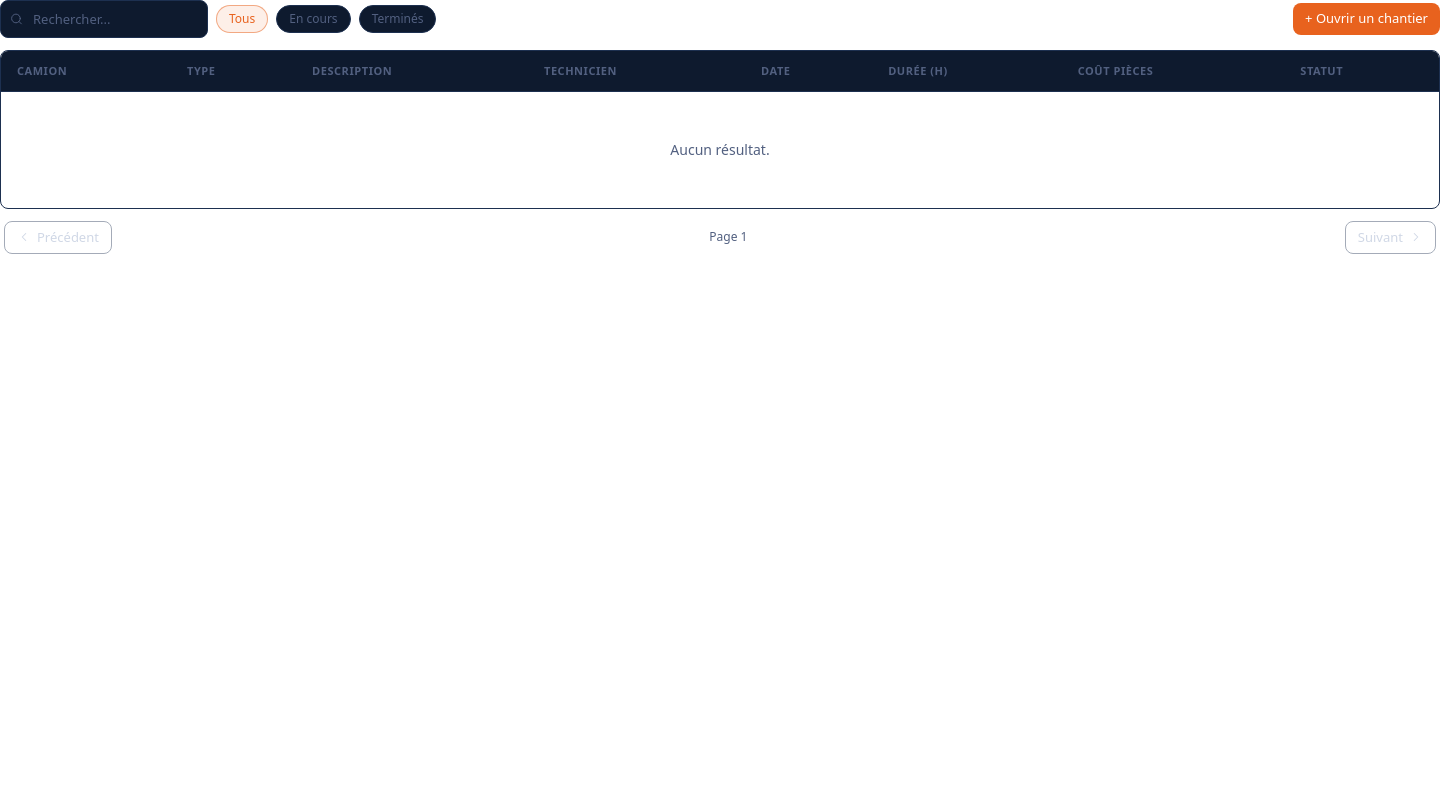
Test: MaintenanceList › new maintenance drawer › opens the drawer when the action button is clicked
Click the button "+ Ouvrir un chantier" at (1367,19), box [1293,3,1439,35]
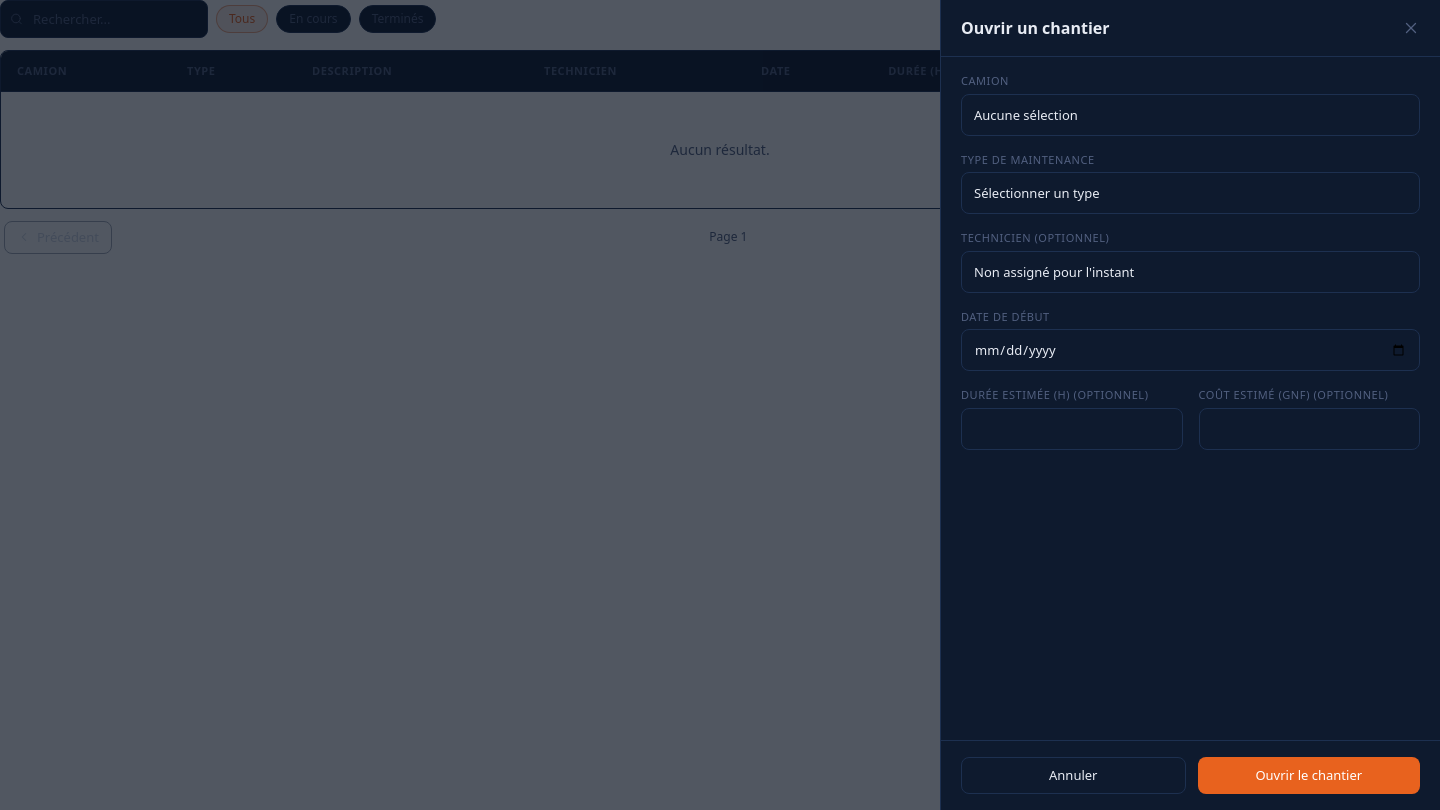
Expected: the text "Ouvrir un chantier" is shown, [961,16,1110,40]
